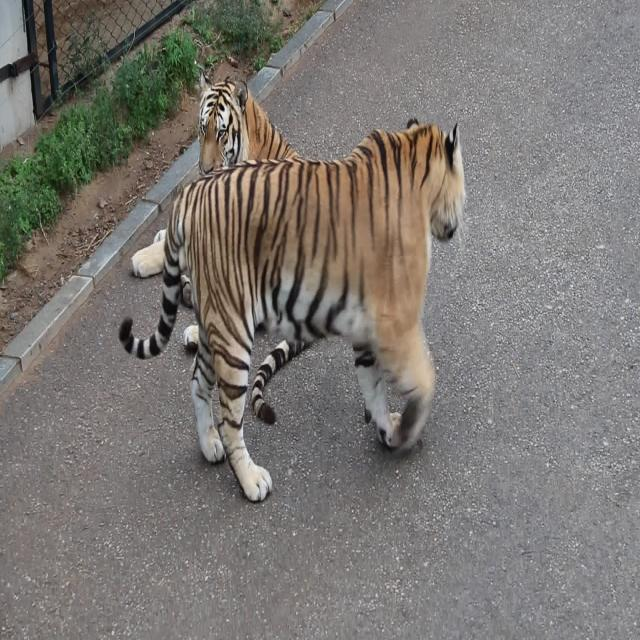Tiger: (117, 100, 489, 481), (190, 72, 306, 168)
